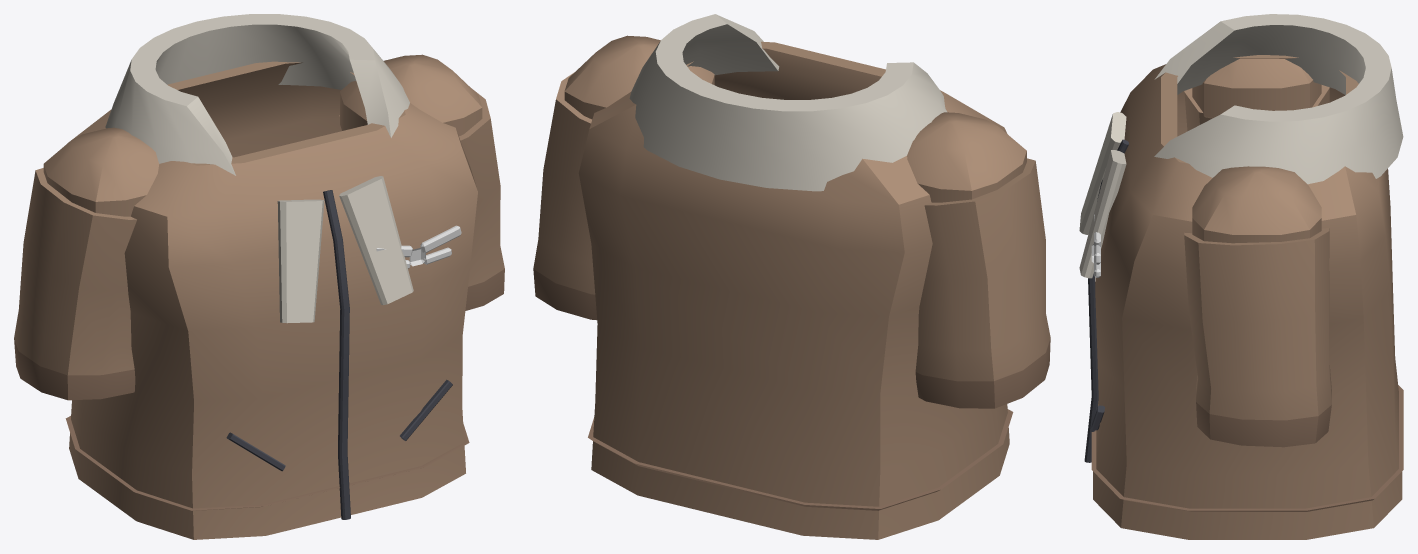
File: gear_veste.glb
3 views of the same model, side by side, from view 1: azimuth 30°, elevation 25°; view 2: azimuth 150°, elevation 25°; view 3: azimuth 270°, elevation 25° (orthographic). The views are drawn at different scales.
Parts seen in each view (by area): view 1: torso__veste, arm_r__veste, arm_l__veste, torso__veste_glow; view 2: torso__veste, arm_r__veste, arm_l__veste; view 3: torso__veste, arm_l__veste, arm_r__veste.
Part boxes in pixels (x1,y1,x2,y2): torso__veste: (65,14,477,539); arm_r__veste: (14,127,159,400); arm_l__veste: (339,54,504,310); torso__veste_glow: (376,225,461,268); torso__veste: (578,14,1013,539); arm_r__veste: (907,112,1050,408); arm_l__veste: (533,35,714,320); torso__veste: (1079,14,1403,539); arm_l__veste: (1184,166,1331,447); arm_r__veste: (1184,58,1329,131).
Bounding box in the file's own units: 0.4598 × 0.371 × 0.2766.
